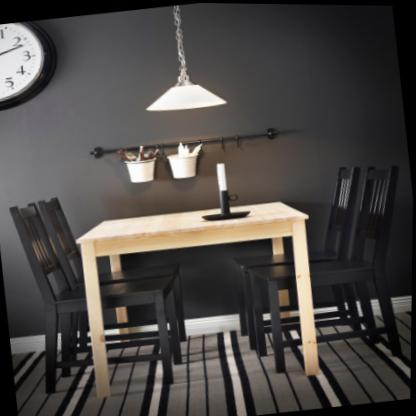Table: (71, 191, 329, 406)
